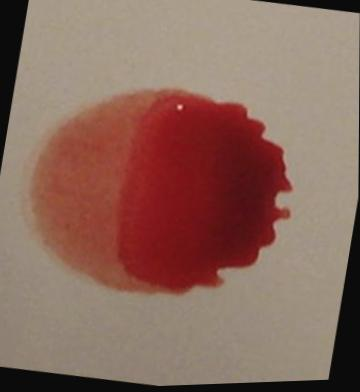Fire: (27, 91, 294, 298)
